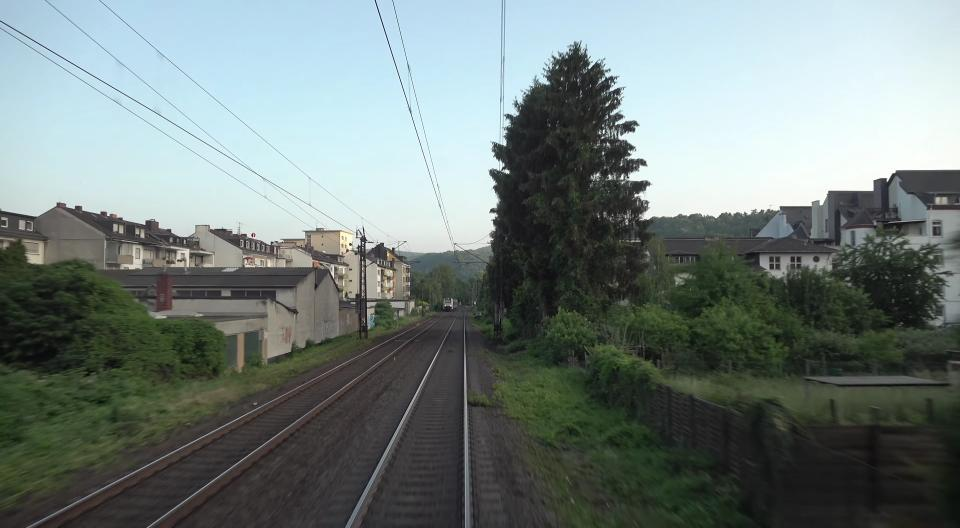Plant: (468, 349, 517, 418), (448, 348, 455, 353)
